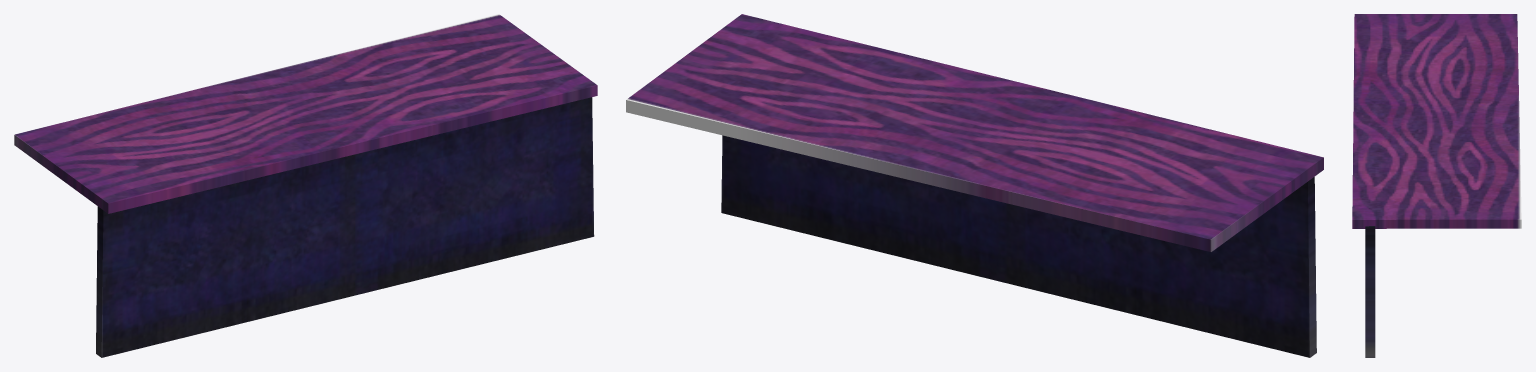
File: Table Top.fbx
The picture shows the model from 3 angles, left to right: view 1: azimuth 30°, elevation 25°; view 2: azimuth 150°, elevation 25°; view 3: azimuth 270°, elevation 25°; orthographic projection. The views are drawn at different scales.
Parts seen in each view (by area): view 1: tablebottom, tabletop; view 2: tabletop, tablebottom; view 3: tabletop, tablebottom.
Boxes of the visible parts, x1,y1,x2,y2 form: tablebottom: (96, 97, 594, 357); tabletop: (14, 14, 597, 213); tabletop: (626, 14, 1323, 251); tablebottom: (721, 135, 1316, 357); tabletop: (1352, 14, 1521, 228); tablebottom: (1365, 226, 1375, 357).
Bounding box in the file's own units: 385 × 119 × 132.
